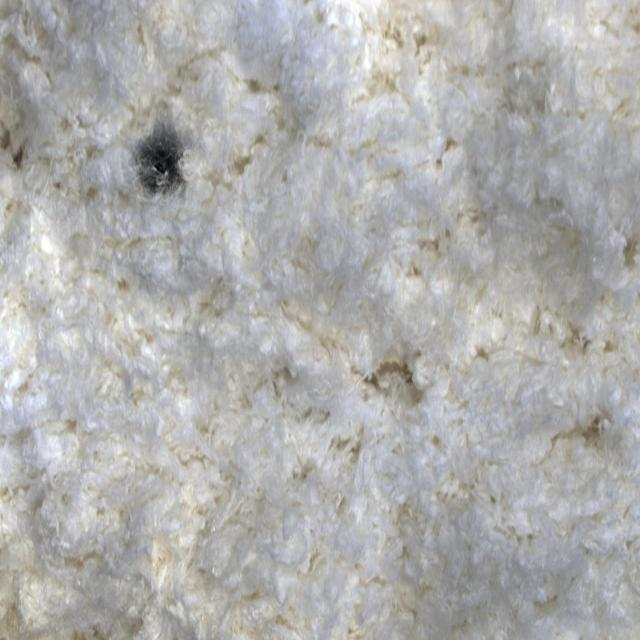dust: (110, 75, 222, 253)
